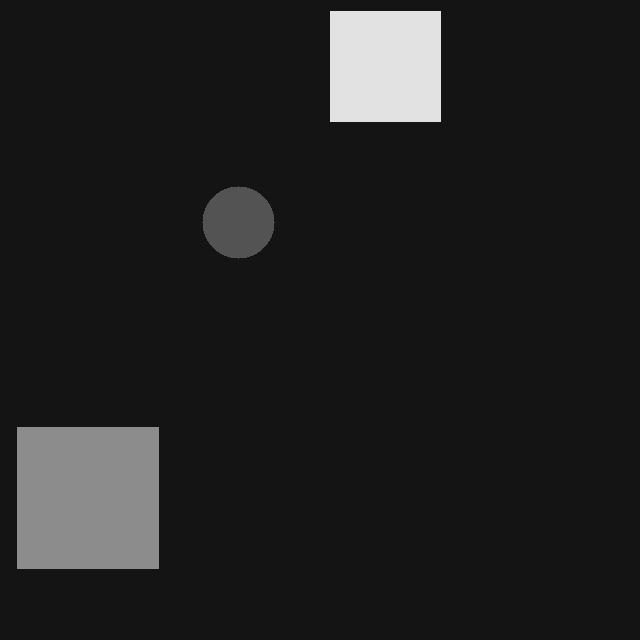circle: (202, 186, 274, 258)
square: (17, 427, 158, 568), (330, 11, 440, 121)
